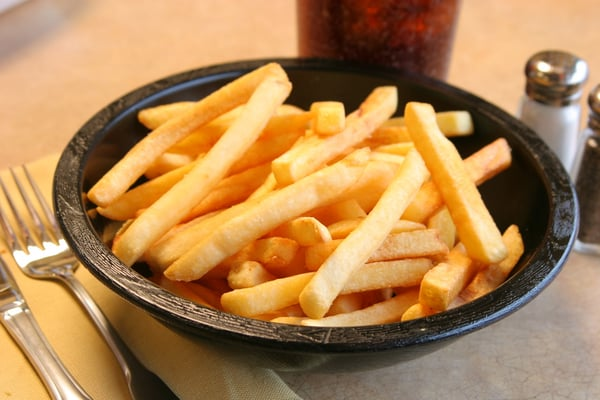sushi: (13, 50, 584, 392), (122, 69, 579, 352)
